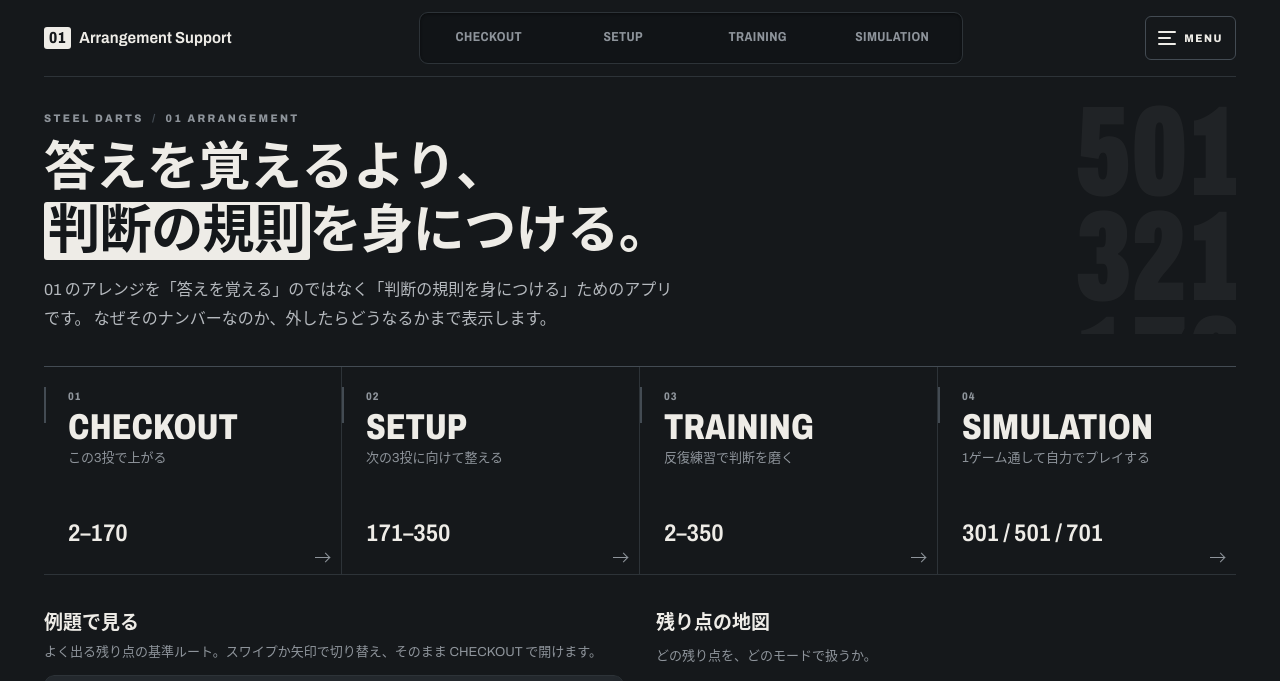
Scenario: アプリの骨格 › ナビゲーションでモードを切り替えられる
The width and height of the screenshot is (1280, 681).
Click the button with test id "nav-checkout" at (489, 38), box [422,16,555,60]
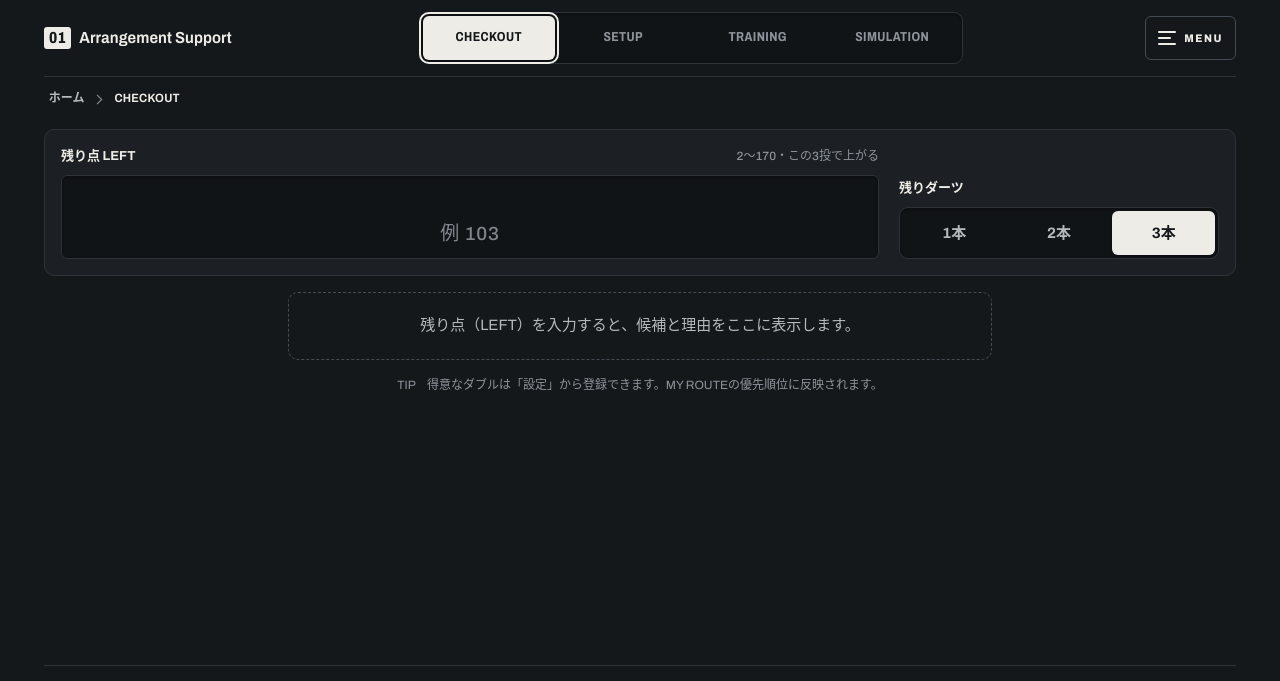
Type "103" into the field with test id "score-input" showing "残り点 LEFT 2〜170・この3投で上がる" at (470, 217), box [78,182,862,253]
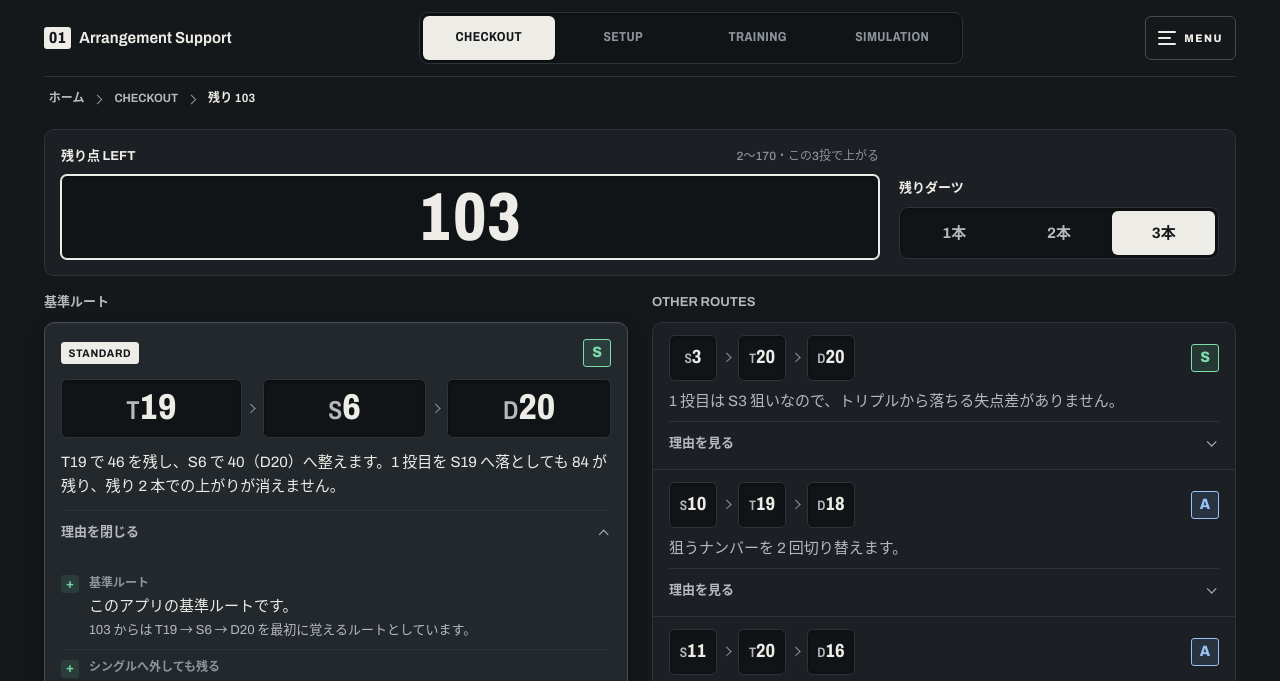
Click the button with test id "nav-training" at (758, 38), box [692,16,824,60]
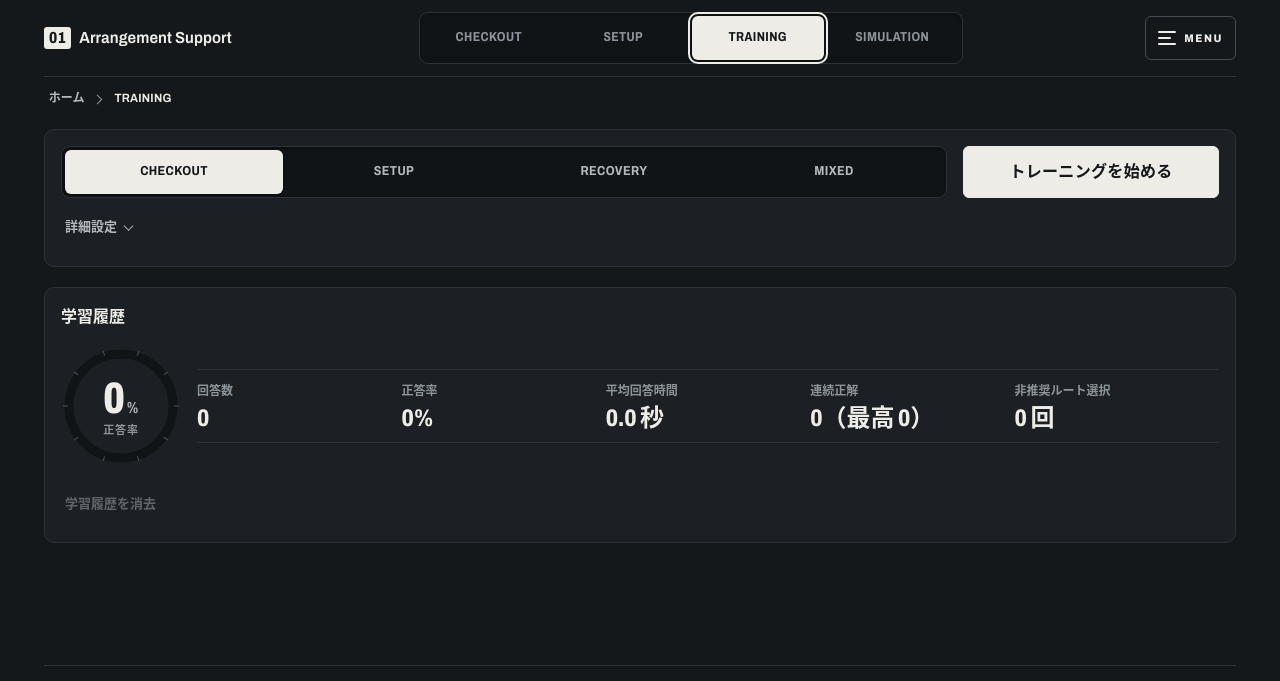
Expected: the button with test id "start-training" is shown, [963,146,1219,198]
